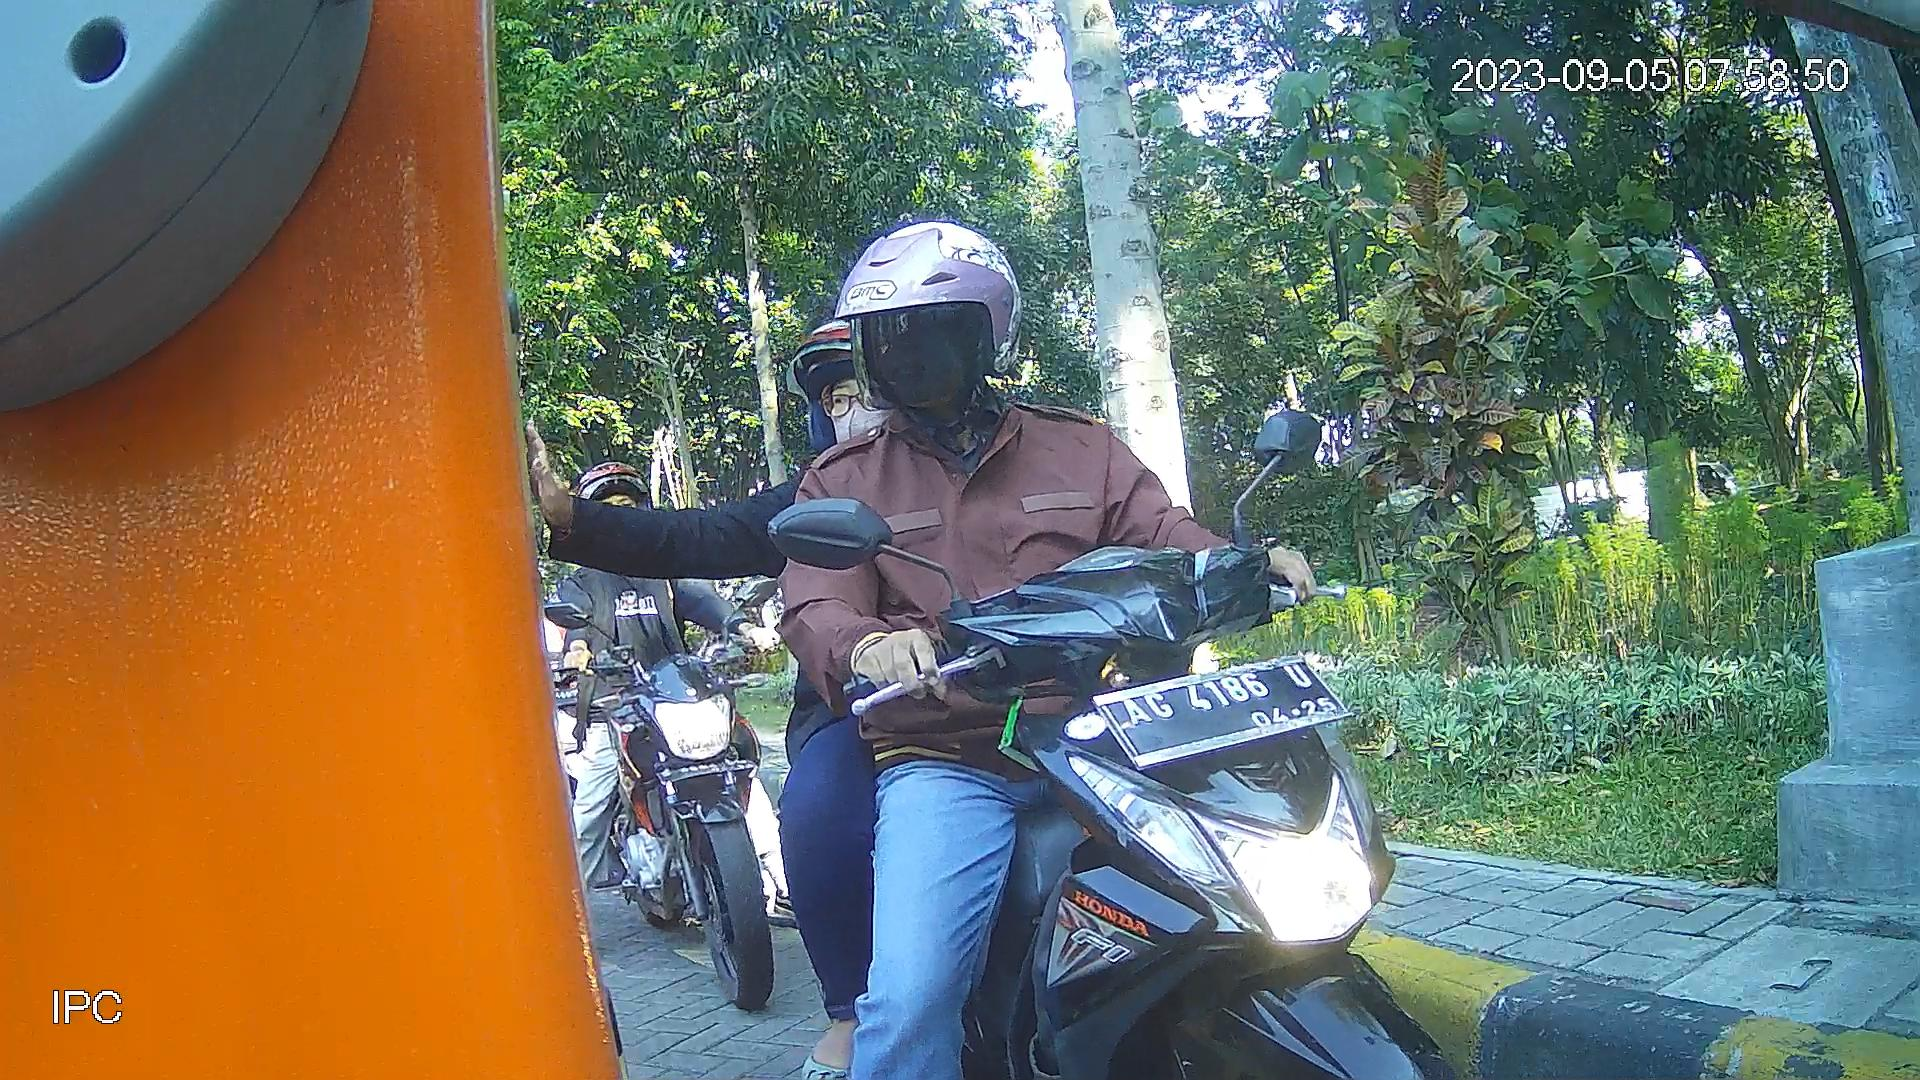plat: (1087, 653, 1350, 769)
